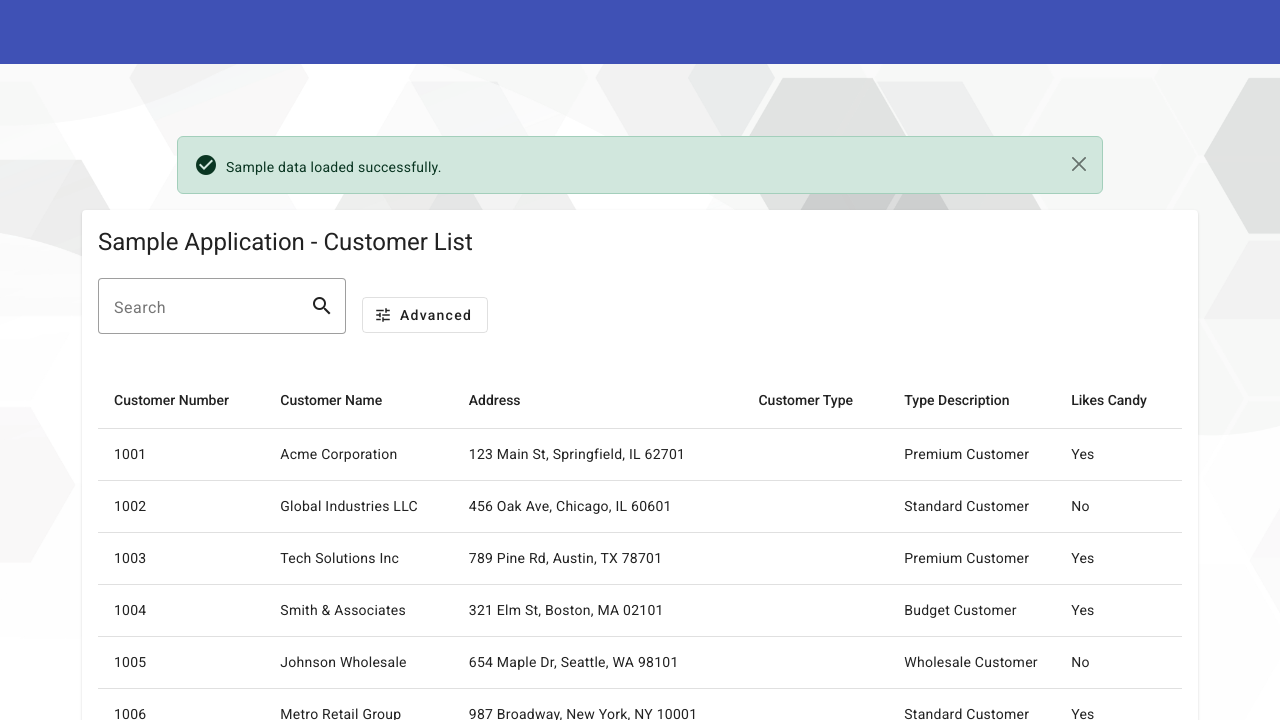
Test: 01 - Customer List (Mock Mode) › Global Search › should filter customers by name (client-side)
Expected: the element that starts with "Search" is shown, [98, 274, 1182, 719]
Type "Corp" into the search field labelled "Search".
click(204, 306); type("Corp")  # box [114, 294, 294, 318]
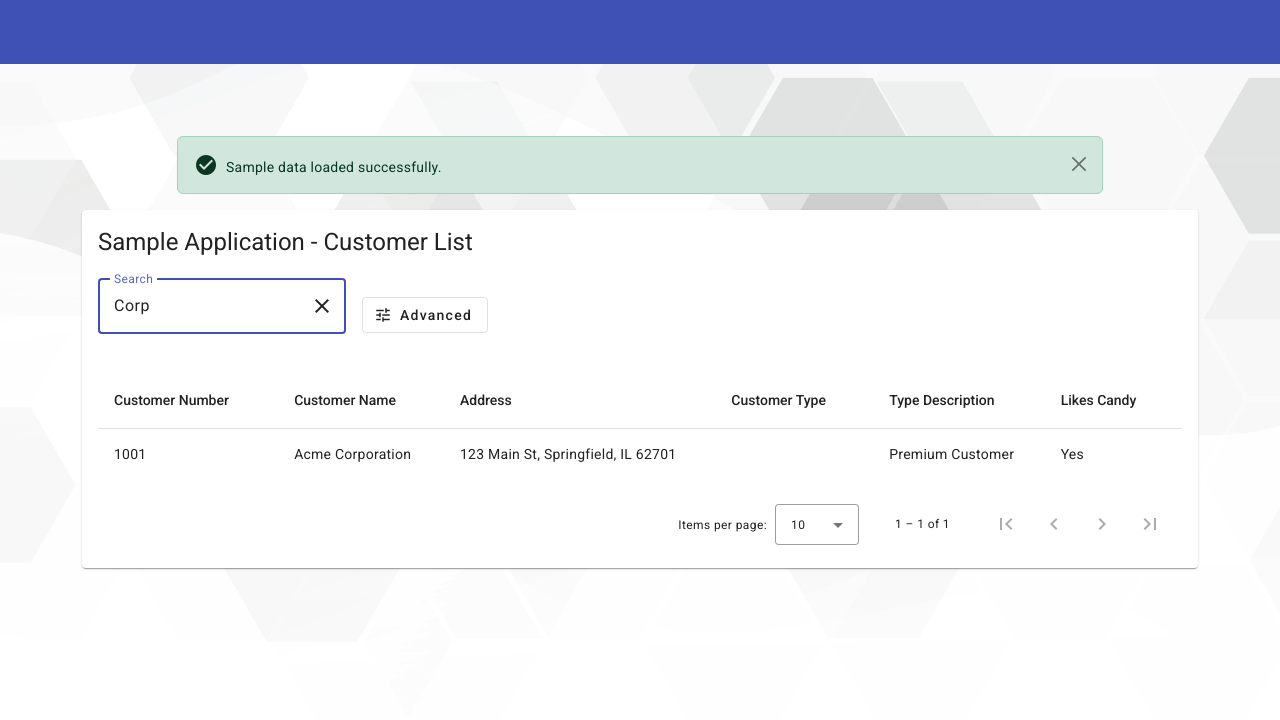
Result: the number of rows is fewer than 8 at [98, 428, 1182, 480]
